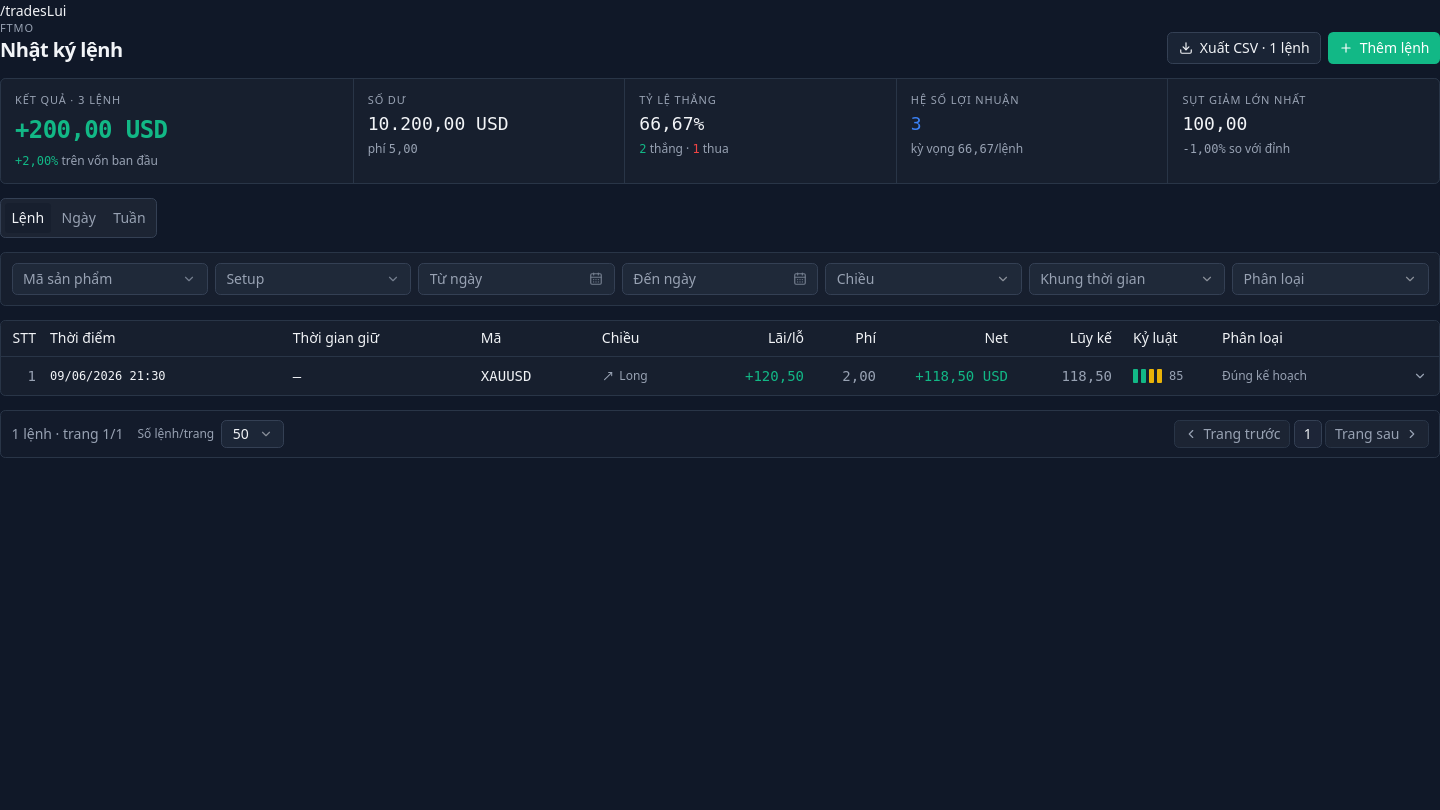
Test: đổi bộ lọc thì ghi lên URL
Expected: the row "XAUUSD" is shown, [1,356,1439,395]
Click the dropdown labelled "Mã sản phẩm".
click(110, 279)  # box [12,263,208,295]
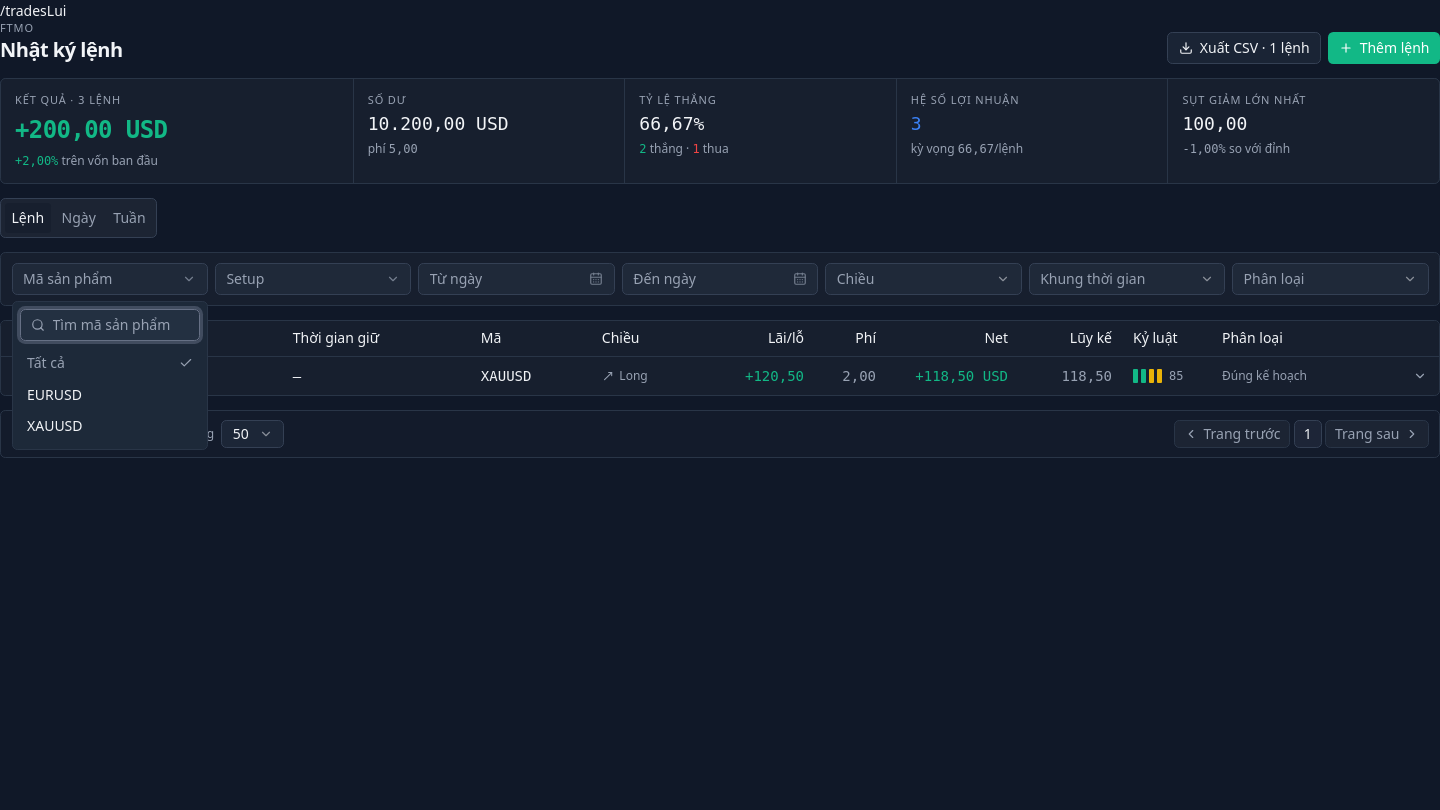
Click the option "EURUSD".
click(110, 395)  # box [20,379,200,410]
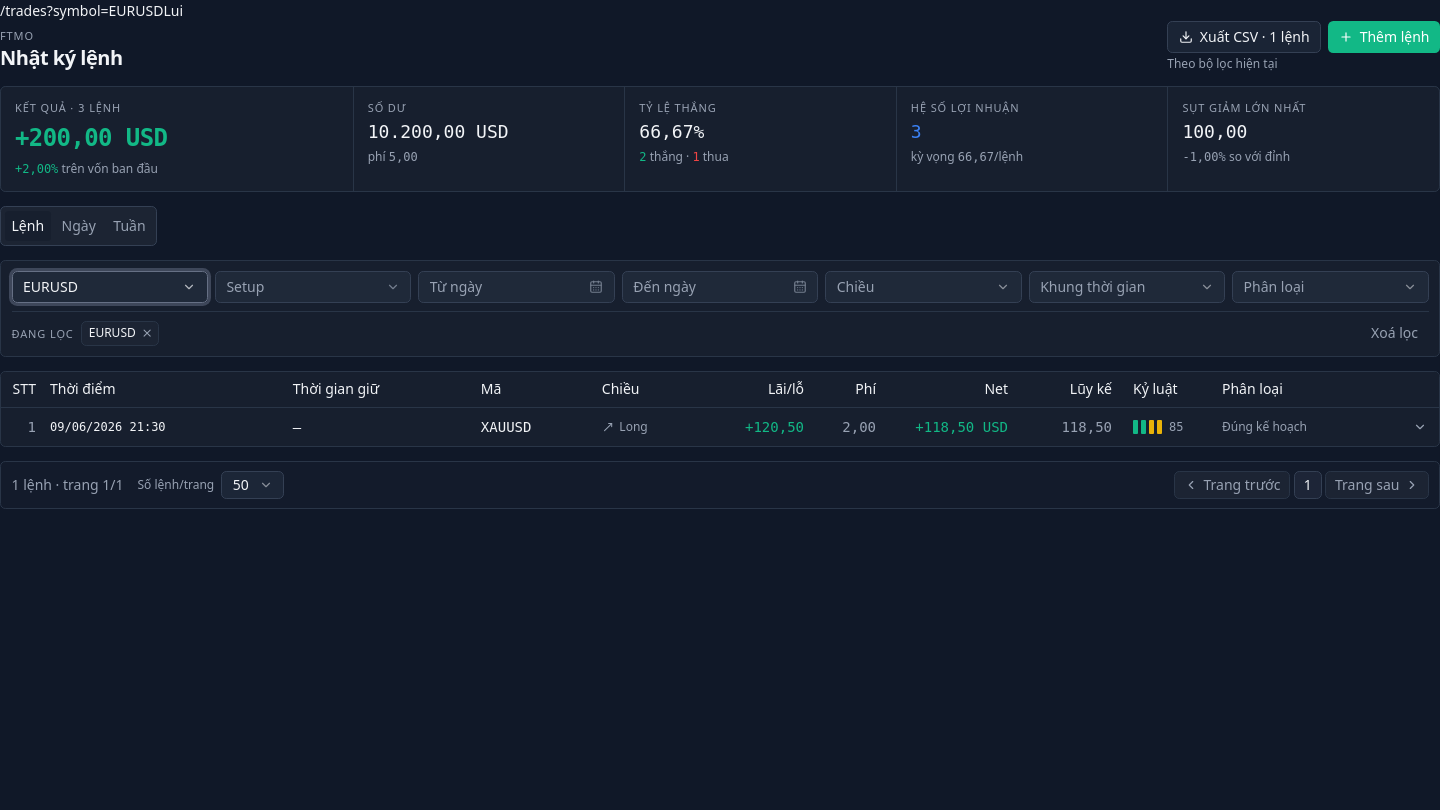
Now the text with test id "url" reads "/trades?symbol=EURUSD", box [0,1,163,20]
